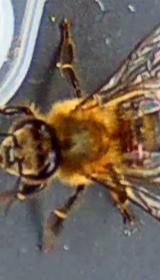varroa_mite: (122, 137, 150, 167)
